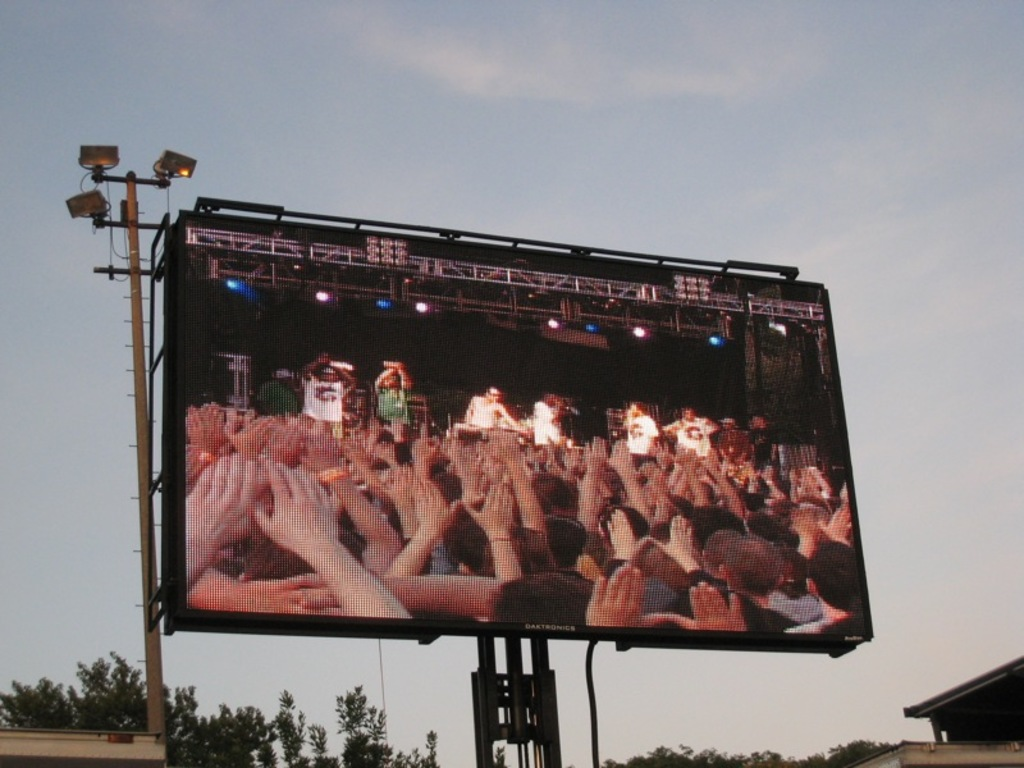Person: (184, 353, 863, 632)
